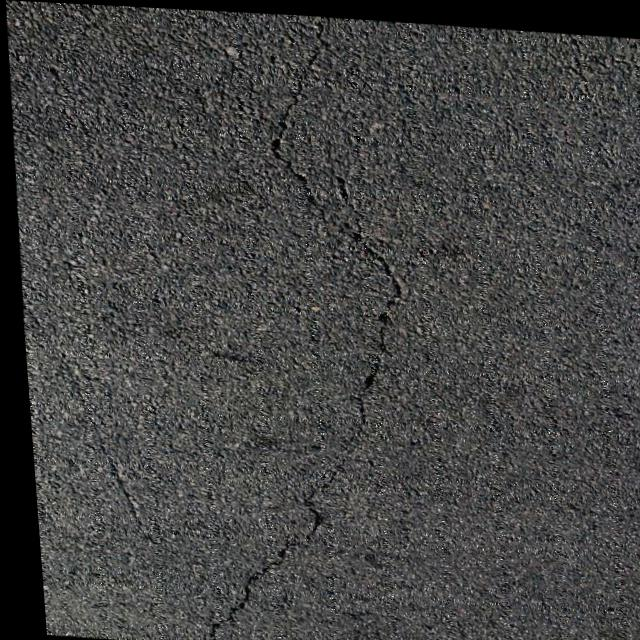Crack: (150, 6, 434, 640)
